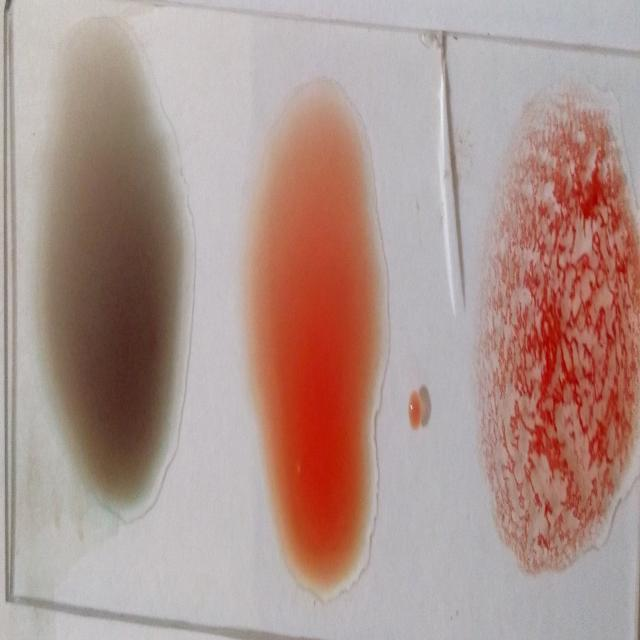D: (477, 111, 636, 566)
